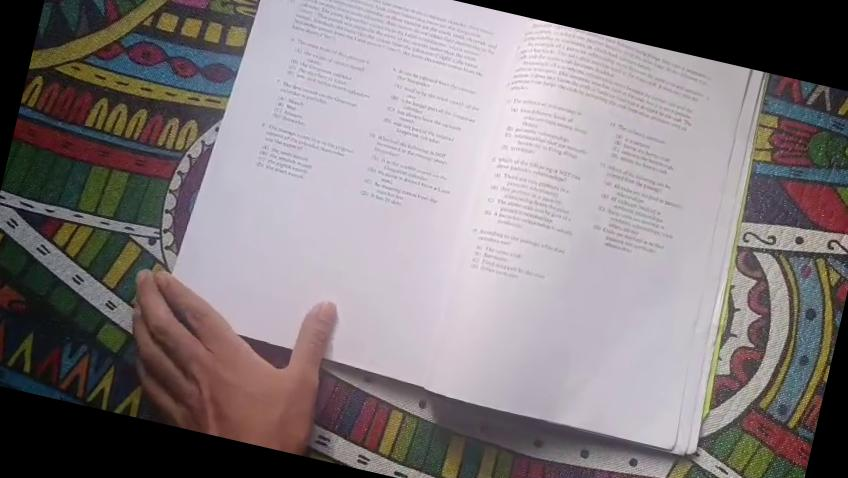Kertas: (424, 15, 767, 454), (430, 19, 749, 448), (177, 0, 511, 383)
